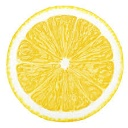orange: (6, 4, 125, 125)
